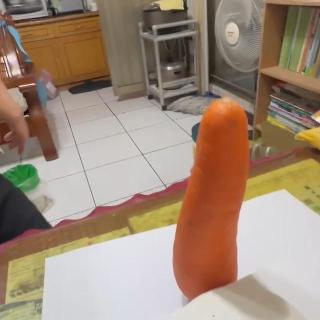carrot: (172, 96, 250, 300)
